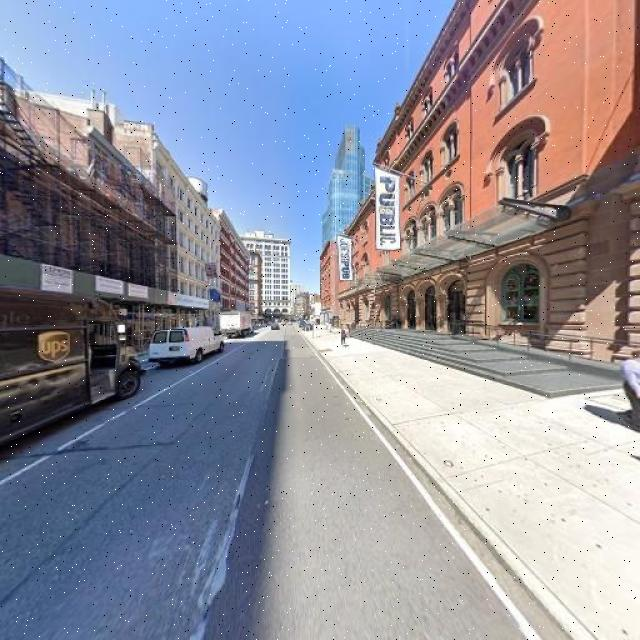Building: (338, 1, 640, 372), (37, 149, 147, 359), (152, 129, 219, 339), (1, 124, 29, 364)
